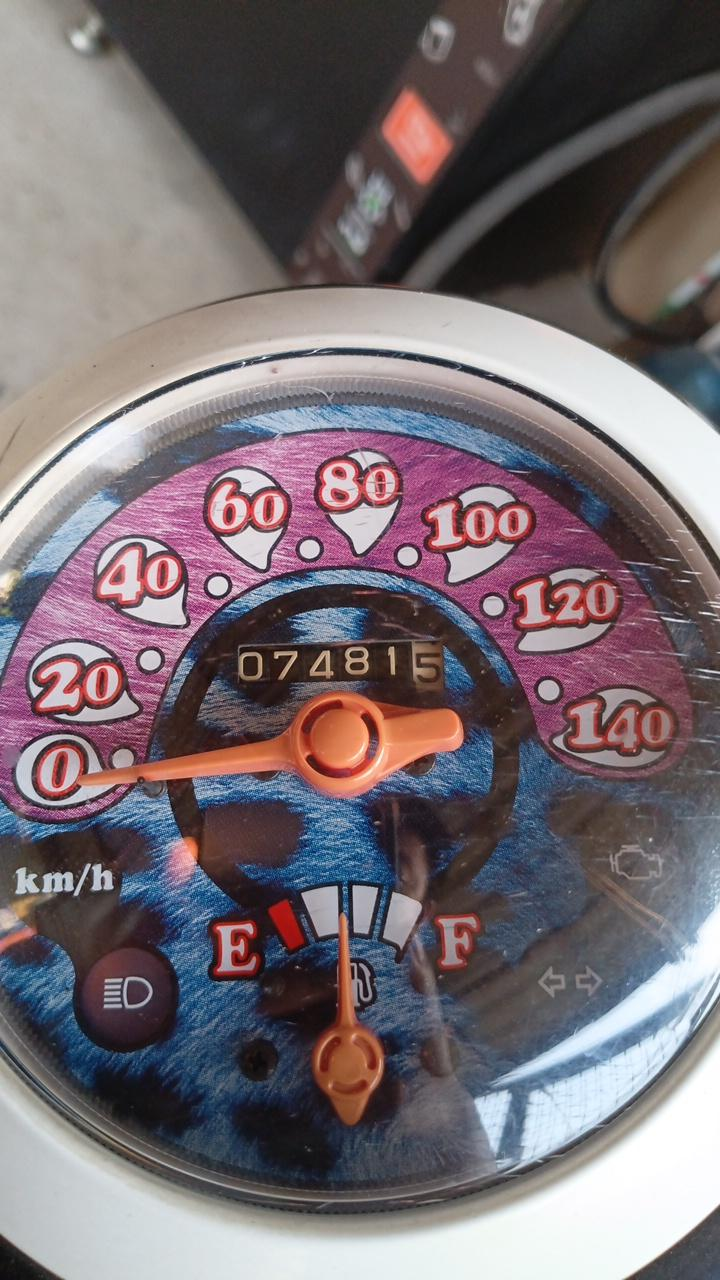0: (239, 652, 263, 680)
1: (385, 645, 398, 676)
4: (307, 649, 334, 680)
5: (414, 649, 443, 683)
7: (272, 650, 299, 681)
8: (344, 646, 370, 677)
odometer: (237, 641, 446, 699)
